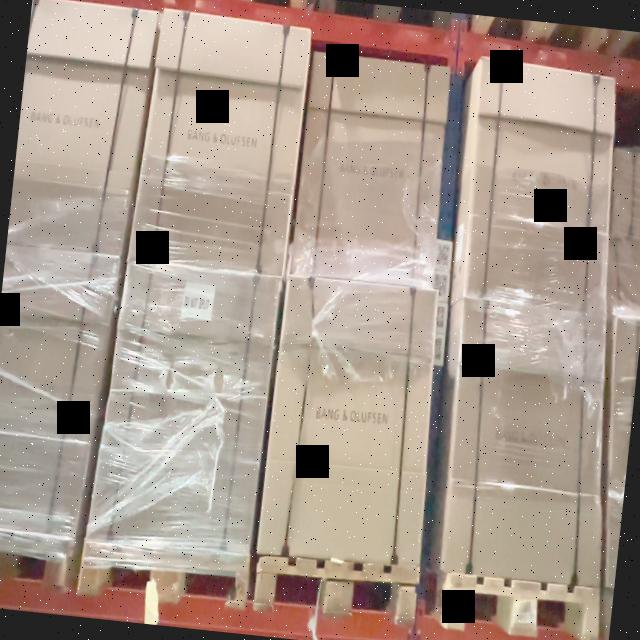box: (86, 262, 283, 556), (257, 275, 436, 564), (129, 8, 313, 273), (442, 298, 605, 587), (466, 59, 614, 316), (289, 51, 450, 283)
